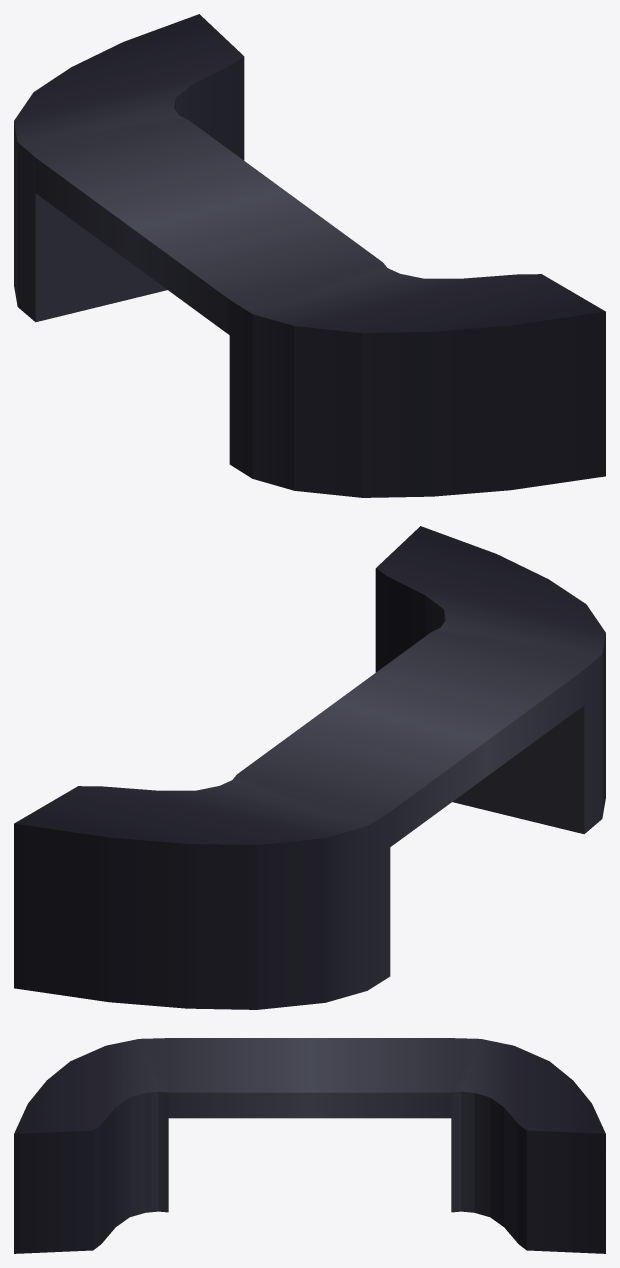
File: receptionist_Desk.glb
3 views of the same model, one above another, from view 1: azimuth 30°, elevation 25°; view 2: azimuth 150°, elevation 25°; view 3: azimuth 270°, elevation 25° (orthographic). The views are drawn at different scales.
Parts seen in each view (by area): view 1: receptionish-col; view 2: receptionish-col; view 3: receptionish-col.
Part boxes in pixels (bbox=[...]): receptionish-col: bbox=[14, 14, 605, 497]; receptionish-col: bbox=[14, 526, 605, 1009]; receptionish-col: bbox=[14, 1038, 605, 1253].
Size of the model in its own units: 2.38 by 1.39 by 6.2.
Materials: 1 (1 with a texture image).
